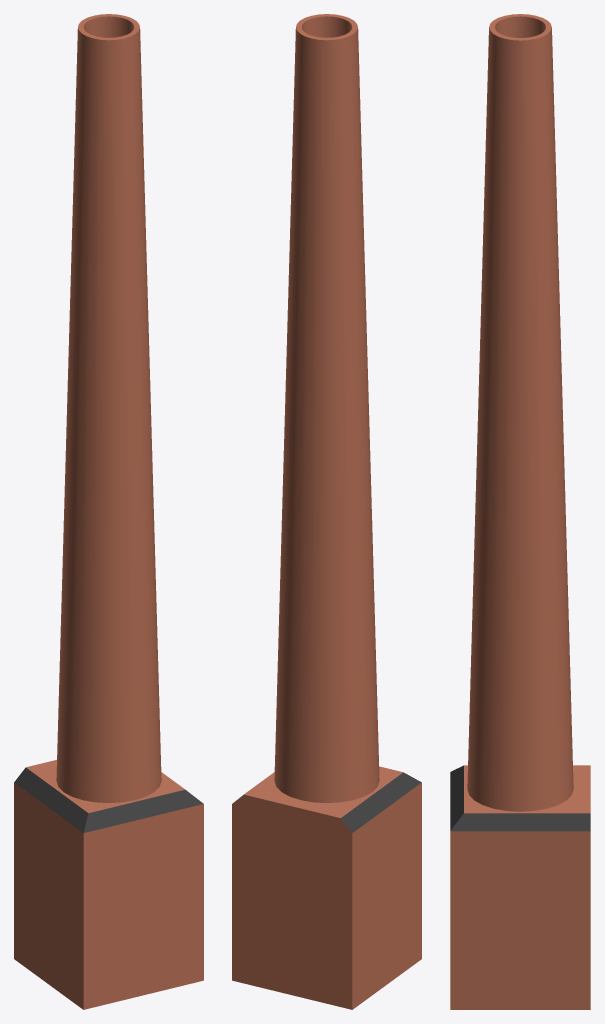
Rendered from factory_smokestack_01.fbx.
The picture shows the model from 3 angles, left to right: view 1: azimuth 30°, elevation 25°; view 2: azimuth 150°, elevation 25°; view 3: azimuth 270°, elevation 25°; orthographic projection.
Visible parts, largest first — view 1: smoke_stack_01; view 2: smoke_stack_01; view 3: smoke_stack_01.
Boxes of the visible parts, x1,y1,x2,y2 form: smoke_stack_01: (14,14,203,1009); smoke_stack_01: (232,14,421,1009); smoke_stack_01: (450,14,590,1009).
Bounding box in the file's own units: 400 × 2994 × 400.
